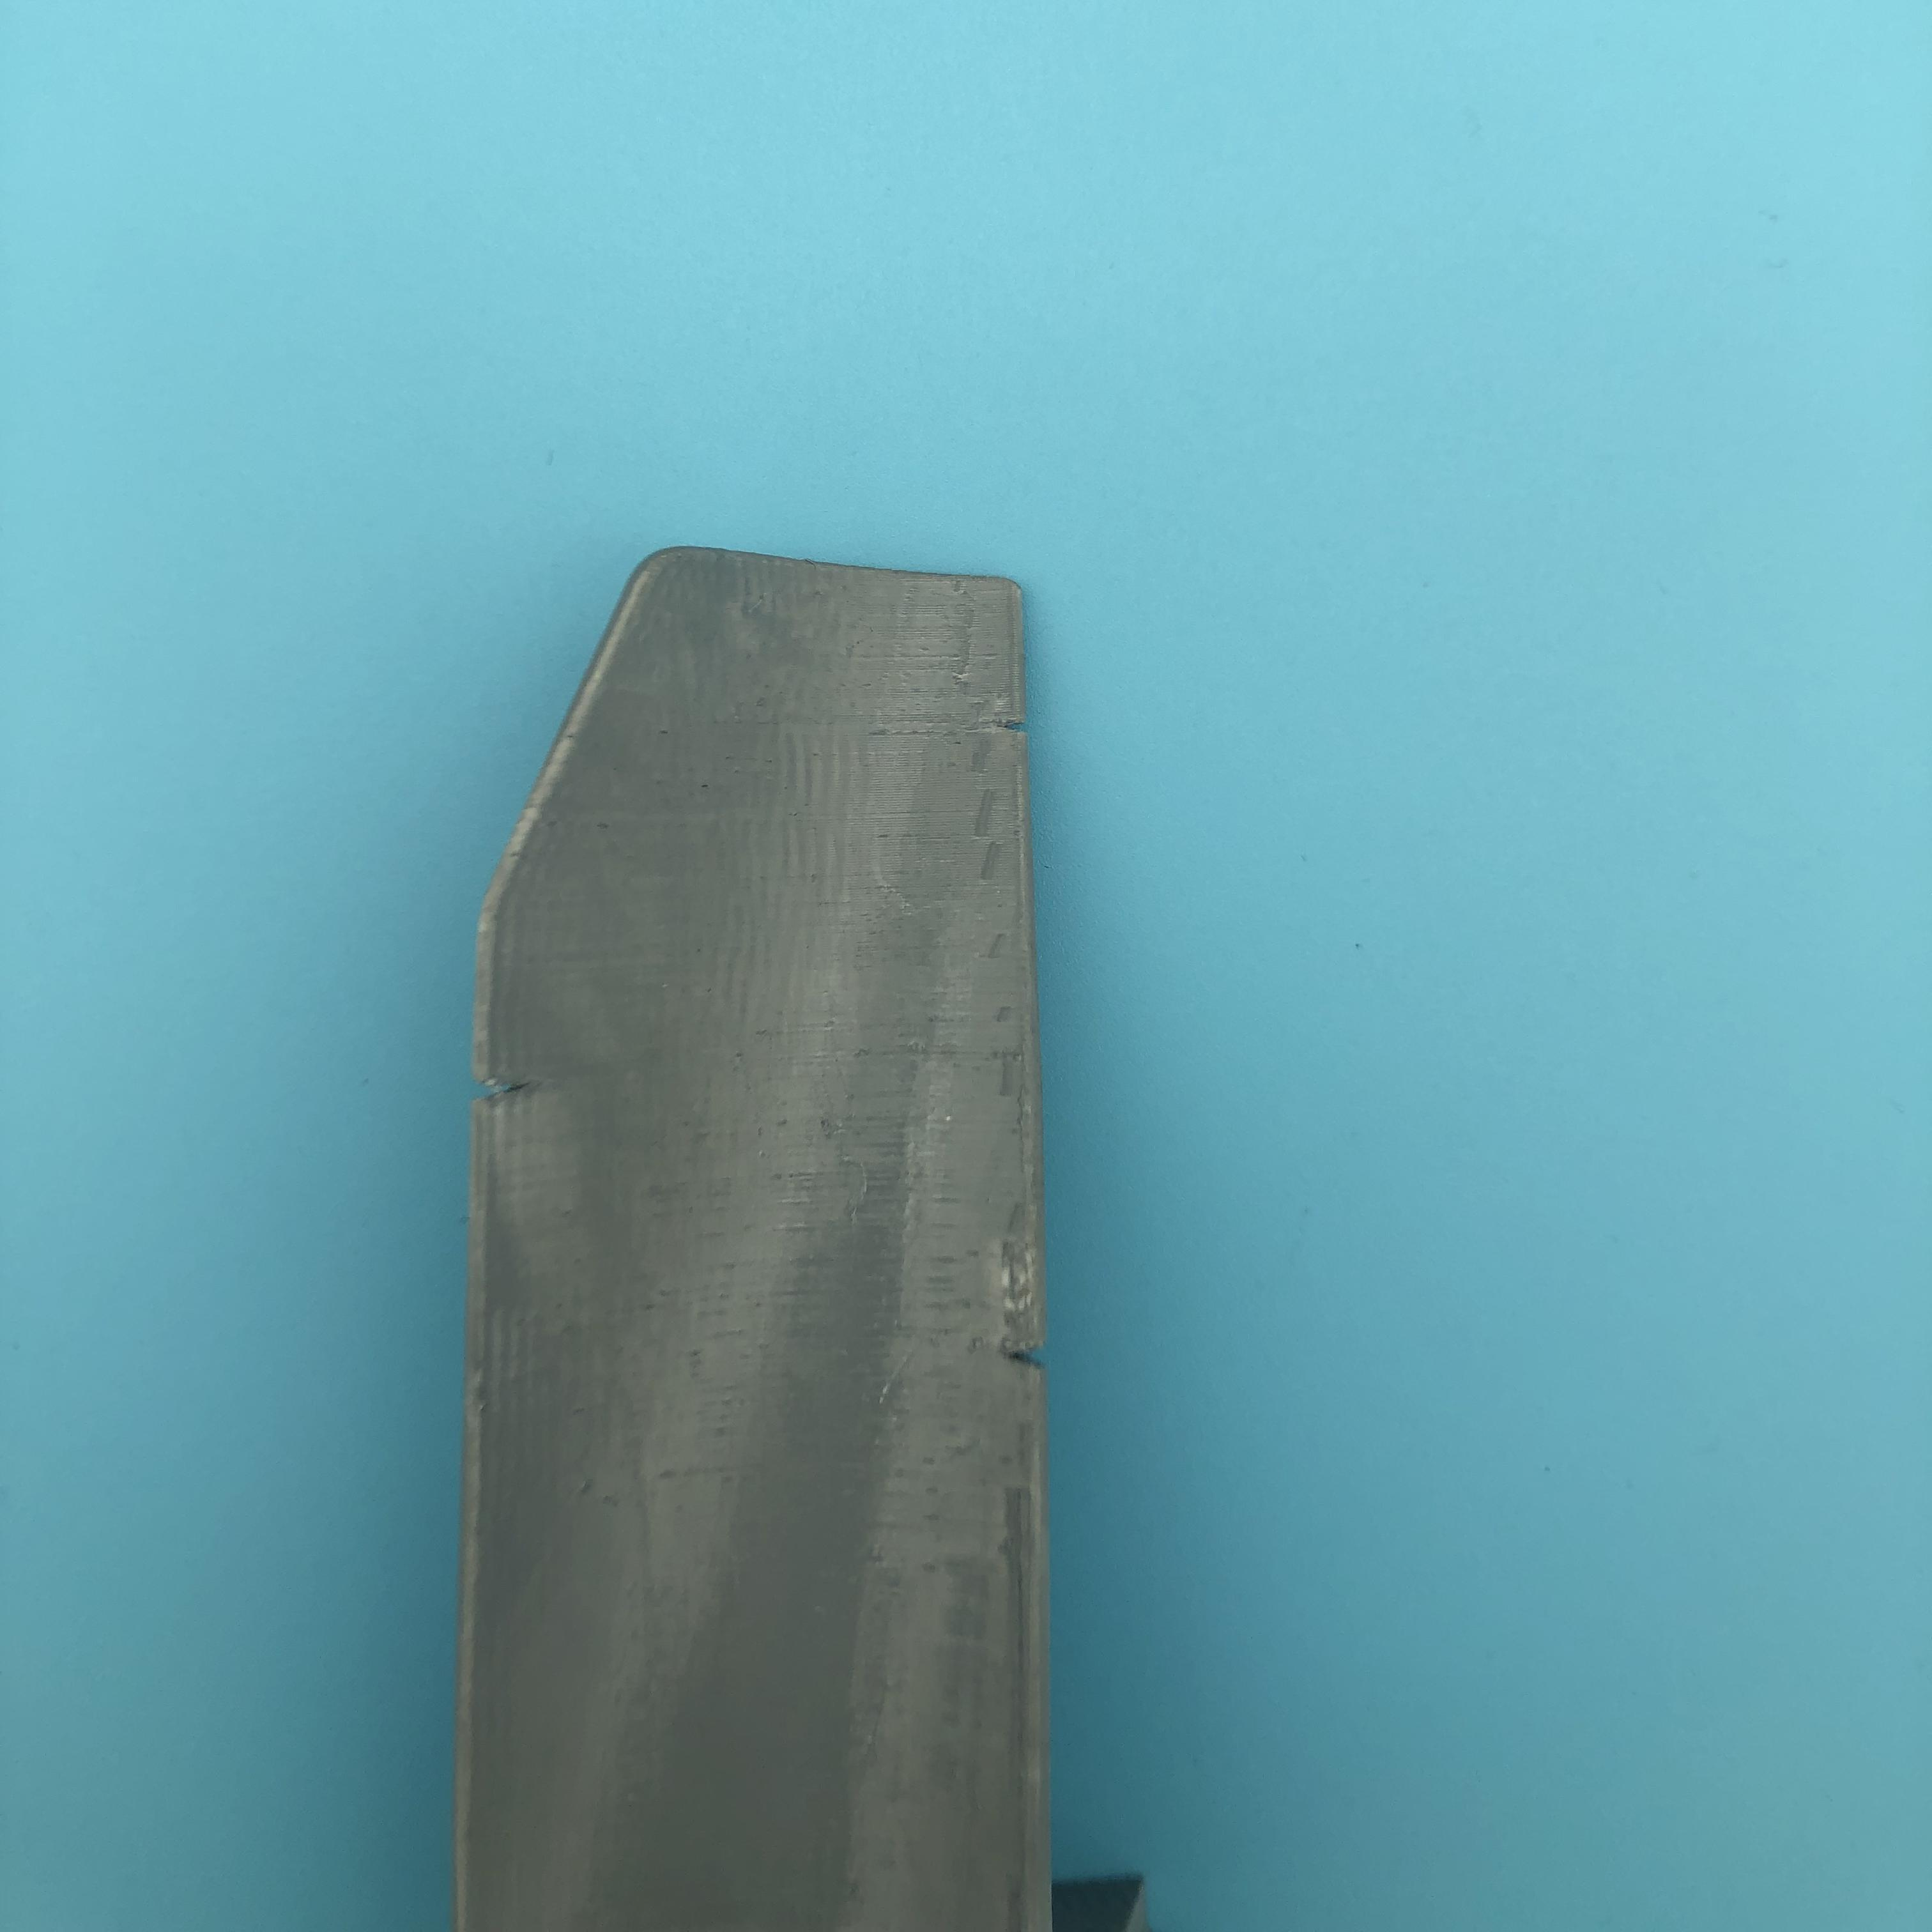groove: (483, 1074, 543, 1108), (1005, 1338, 1044, 1376), (996, 711, 1028, 741)
